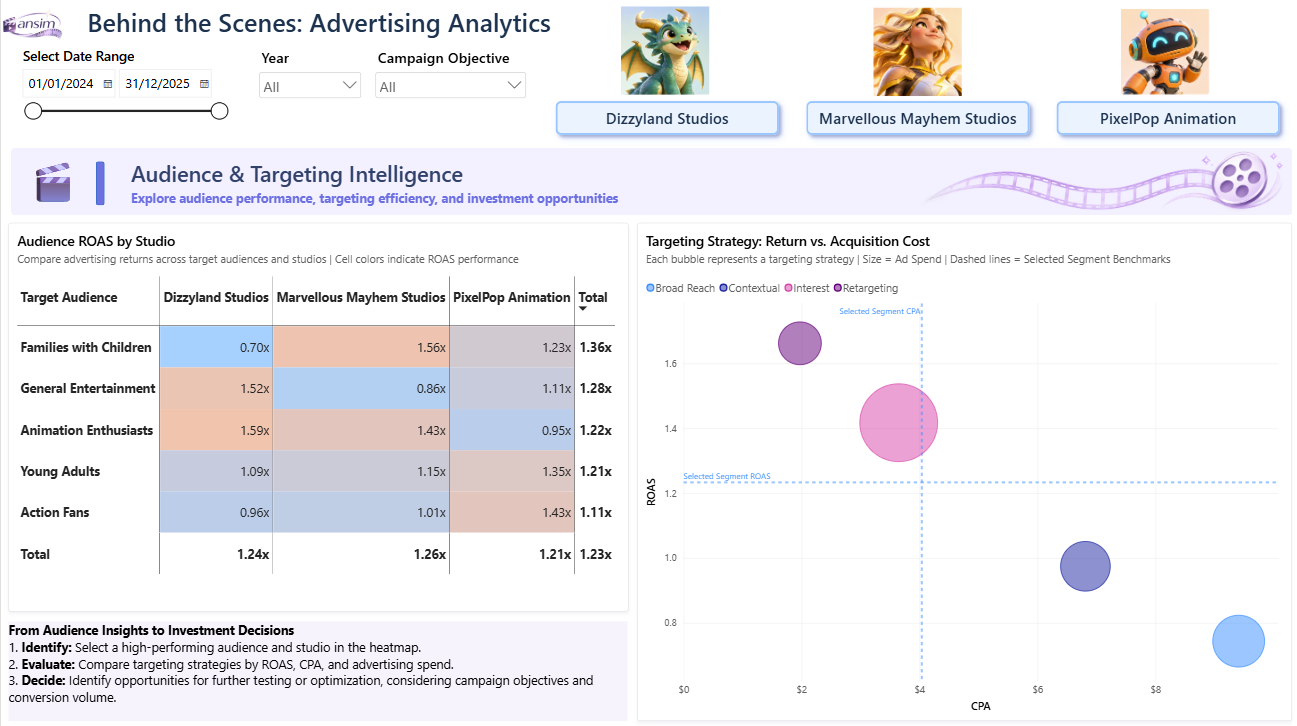

What the dashboard file says about the page in this screenshot:
{"tool":"powerbi","page":{"name":"6. Audience & Targeting","canvas":[1920,1080],"ordinal":5},"visuals":[{"type":"shape","box":[15.1,220.6,1892.9,100],"z":0},{"type":"textbox","box":[126.7,9,705.8,56.1],"z":1000},{"type":"image","box":[916.4,11,130,130],"z":2000},{"type":"image","box":[1654,14.5,130.3,130.3],"z":3000},{"type":"image","box":[1288.8,12.8,130,130],"z":4000},{"type":"textbox","box":[192.2,237.3,723.7,56.5],"z":5000},{"type":"shape","box":[140.5,239.6,12.5,64.7],"z":6000},{"type":"textbox","box":[192.7,281.3,960,31.3],"z":7000},{"type":"textbox","box":[36.2,227,89.8,85.6],"z":8000},{"type":"image","box":[1356.1,220.6,544.7,99.5],"z":9000},{"type":"pivotTable","title":"Audience ROAS by Studio","fields":{"Columns":["Dim_Studio.Studio_Name"],"Rows":["Dim_Campaign.Target_Audience"],"Values":["_Measures.ROAS"]},"box":[11.1,330.5,915.9,574.3],"z":10000},{"type":"scatterChart","title":"Targeting Strategy: Return vs. Acquisition Cost","fields":{"Category":["Dim_Campaign.Targeting_Strategy"],"Series":["Dim_Campaign.Targeting_Strategy"],"Size":["_Measures.Total Ad Spend"],"X":["_Measures.CPA"],"Y":["_Measures.ROAS"]},"box":[940.2,330.2,967.6,736.2],"z":11000},{"type":"image","box":[1.8,0,89.9,73.4],"z":12000},{"type":"advancedSlicerVisual","fields":{"Values":["Dim_Studio.Studio_Name"]},"box":[803.5,133.9,1103.9,82],"z":13000},{"type":"slicer","title":"Date","fields":{"Values":["Dim_Date.Date"]},"box":[24.5,69.7,314.7,143.2],"z":14000},{"type":"slicer","fields":{"Values":["Dim_Campaign.Campaign_Objective"]},"box":[548.4,71.6,231.8,122.5],"z":15000},{"type":"textbox","box":[11.1,919.6,914,147],"z":16000},{"type":"slicer","fields":{"Values":["Dim_Date.Year"]},"box":[376.9,71.6,160.2,122.5],"z":17000}]}

Visuals, with their boxes on the page's 1920x1080 design canvas (x1, y1, x2, y2). These are canvas units, not pixel positions in the 1297x726 screenshot, which may show the page scaled, cropped or inside an application window:
shape: (15,221,1908,321)
textbox: (127,9,832,65)
image: (916,11,1046,141)
image: (1654,14,1784,145)
image: (1289,13,1419,143)
textbox: (192,237,916,294)
shape: (140,240,153,304)
textbox: (193,281,1153,313)
textbox: (36,227,126,313)
image: (1356,221,1901,320)
"Audience ROAS by Studio" pivotTable: (11,330,927,905)
"Targeting Strategy: Return vs. Acquisition Cost" scatterChart: (940,330,1908,1066)
image: (2,0,92,73)
advancedSlicerVisual - Dim_Studio.Studio_Name: (804,134,1907,216)
"Date" slicer: (24,70,339,213)
slicer - Dim_Campaign.Campaign_Objective: (548,72,780,194)
textbox: (11,920,925,1067)
slicer - Dim_Date.Year: (377,72,537,194)
